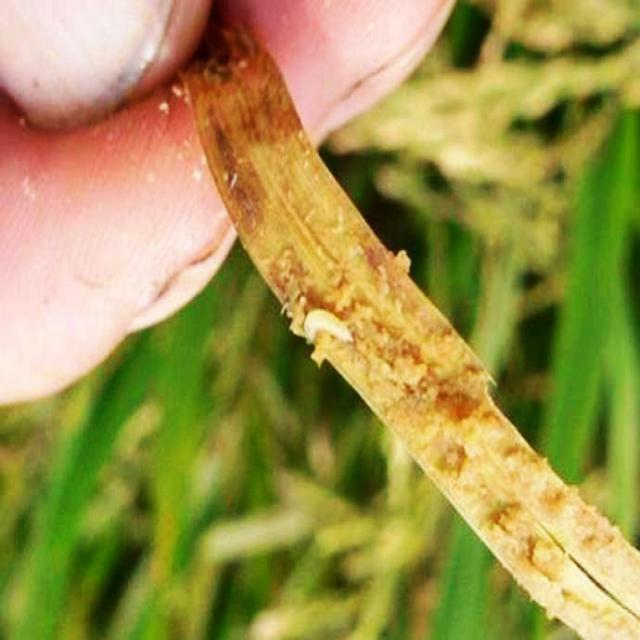whorl-maggot: (302, 291, 358, 359)
